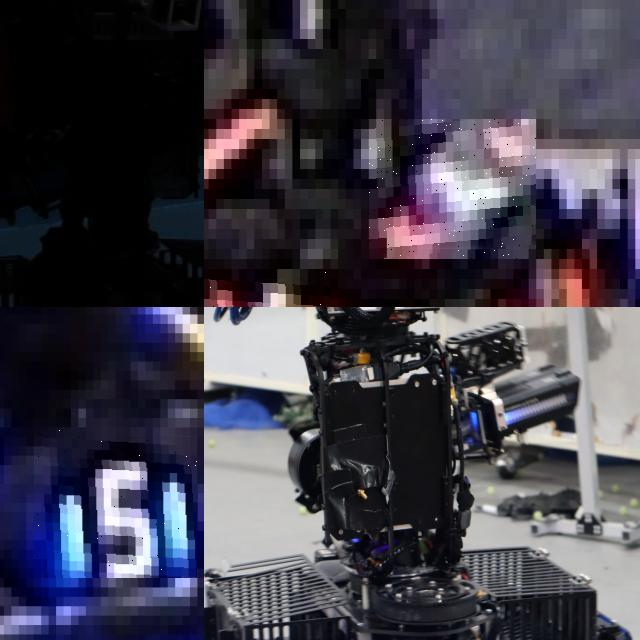B5: (34, 427, 197, 578)
R4: (369, 119, 536, 259), (204, 269, 330, 307)
